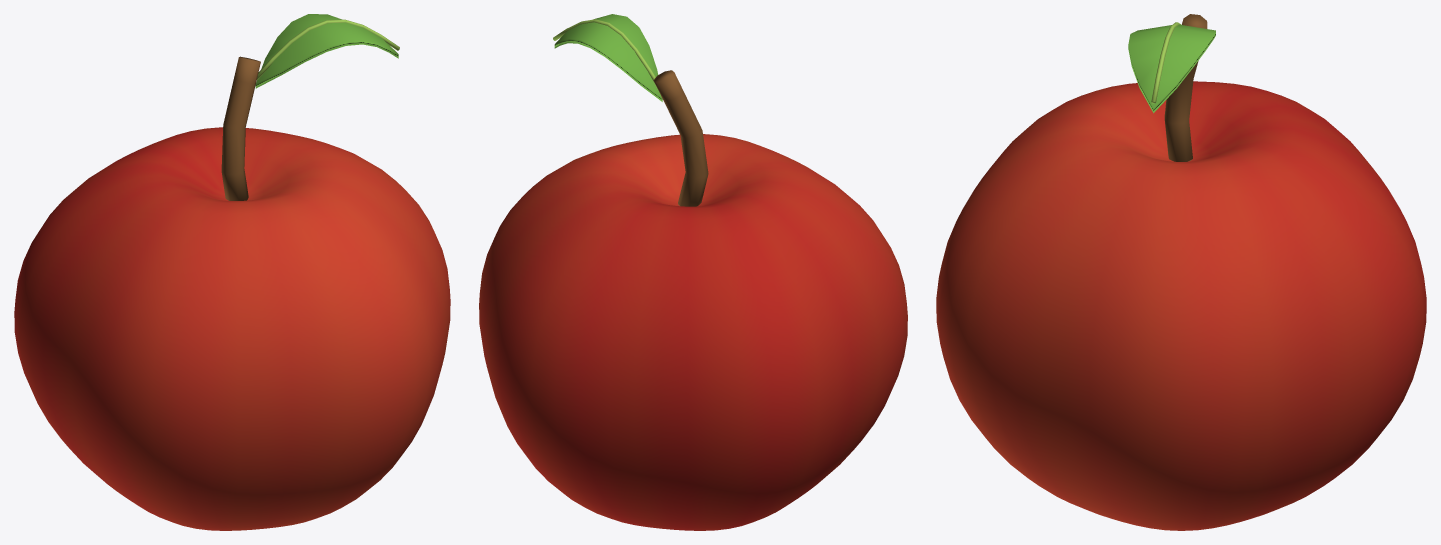
Rendered from apple.glb.
3 renders of one model, left to right at view 1: azimuth 30°, elevation 25°; view 2: azimuth 150°, elevation 25°; view 3: azimuth 270°, elevation 25°, orthographic. The views are drawn at different scales.
Visible parts, largest first — view 1: Apple lobed skin, Apple folded leaf, Curved apple stem, Leaf midrib; view 2: Apple lobed skin, Apple folded leaf, Curved apple stem, Leaf midrib; view 3: Apple lobed skin, Apple folded leaf, Curved apple stem.
Boxes of the visible parts, x1=… form: Apple lobed skin: x1=14, y1=127, x2=450, y2=530; Apple folded leaf: x1=255, y1=14, x2=398, y2=88; Curved apple stem: x1=221, y1=56, x2=260, y2=200; Leaf midrib: x1=257, y1=19, x2=399, y2=80; Apple lobed skin: x1=479, y1=134, x2=907, y2=530; Apple folded leaf: x1=554, y1=14, x2=662, y2=101; Curved apple stem: x1=653, y1=70, x2=708, y2=206; Leaf midrib: x1=553, y1=19, x2=655, y2=85; Apple lobed skin: x1=936, y1=81, x2=1426, y2=530; Apple folded leaf: x1=1128, y1=24, x2=1215, y2=113; Curved apple stem: x1=1164, y1=14, x2=1207, y2=161.
Bounding box in the file's own units: 0.1042 × 0.1213 × 0.1055.
